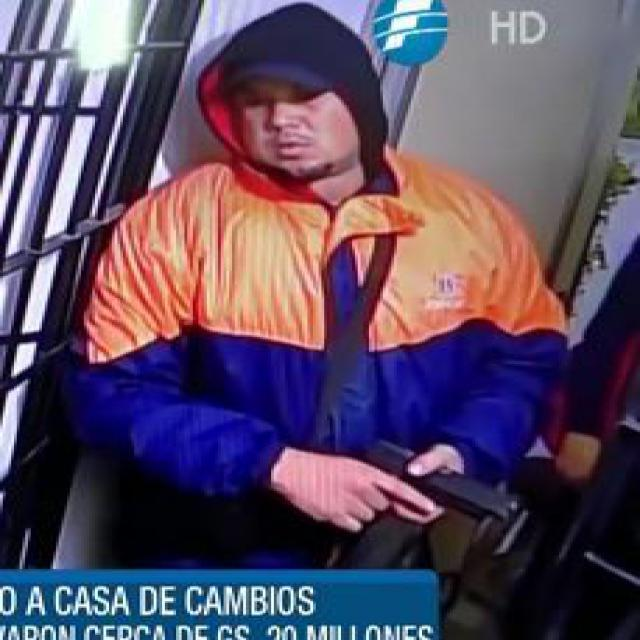gun: (322, 430, 526, 535)
